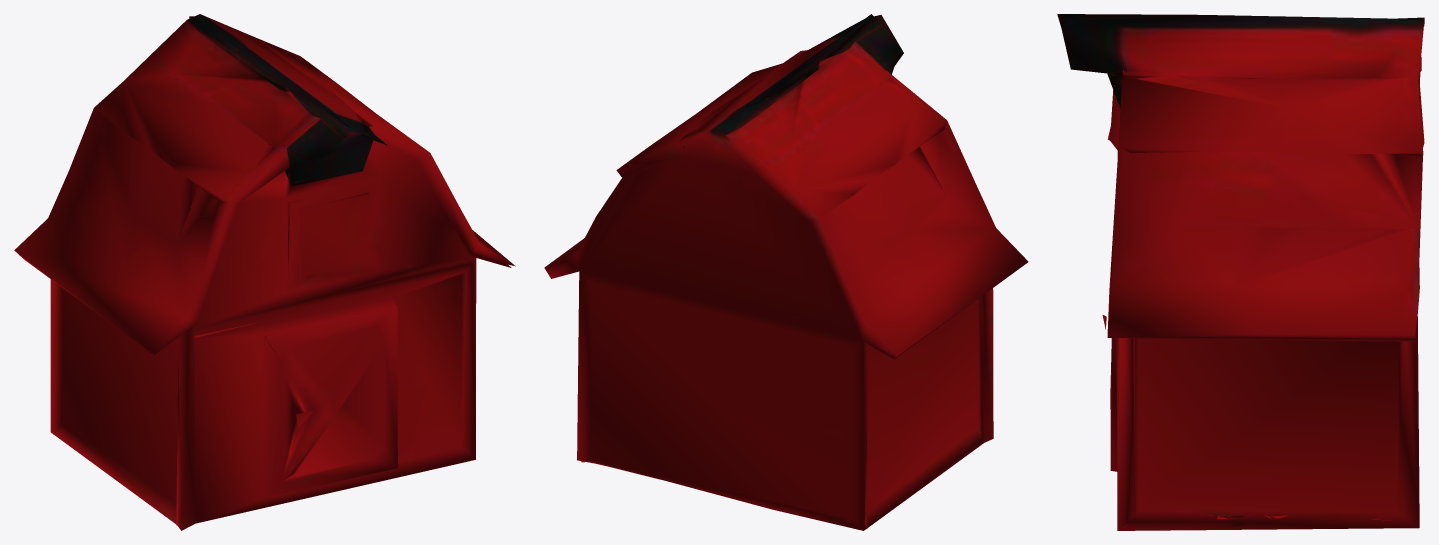
File: lg-farm-barn.glb
3 views of the same model, side by side, from view 1: azimuth 30°, elevation 25°; view 2: azimuth 150°, elevation 25°; view 3: azimuth 270°, elevation 25° (orthographic). The views are drawn at different scales.
Visible parts, largest first — view 1: geometry_0; view 2: geometry_0; view 3: geometry_0.
Boxes of the visible parts, x1=… form: geometry_0: x1=14, y1=14, x2=515, y2=530; geometry_0: x1=544, y1=14, x2=1028, y2=530; geometry_0: x1=1057, y1=14, x2=1424, y2=530.
Bounding box in the file's own units: 1 × 0.9999 × 0.7686.
1 material, 1 textured.
